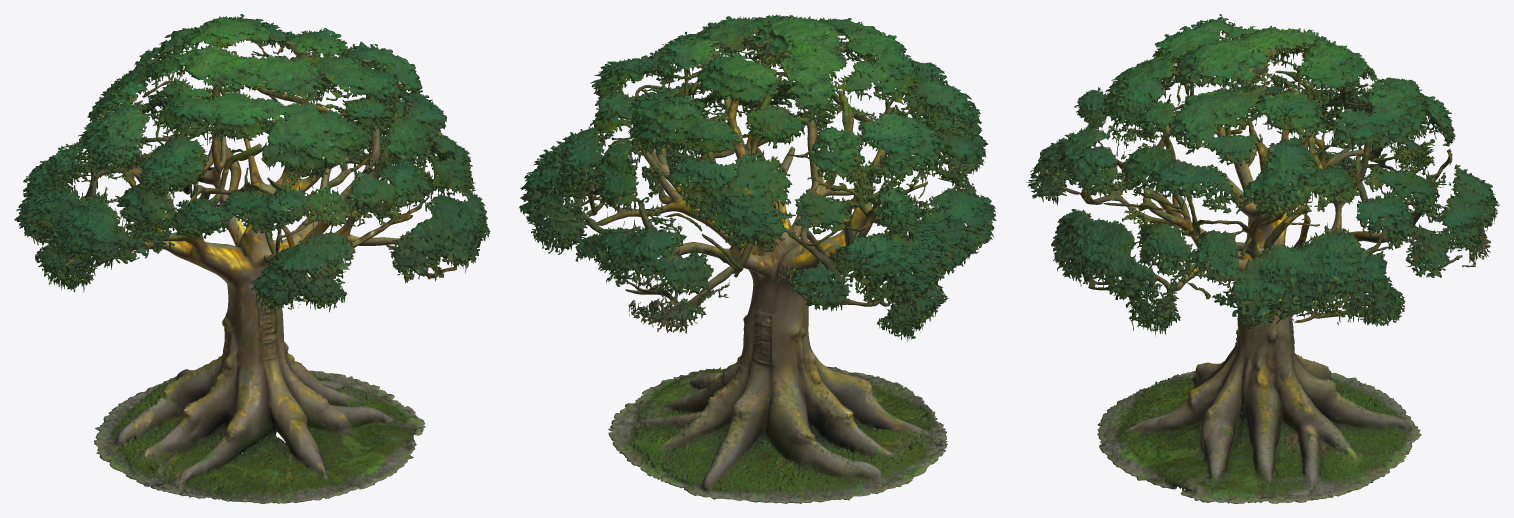
File: Meshy_AI_Luminous_Enchantment_1115232730_texture.glb
3 views of the same model, side by side, from view 1: azimuth 30°, elevation 25°; view 2: azimuth 150°, elevation 25°; view 3: azimuth 270°, elevation 25° (orthographic). The views are drawn at different scales.
Size of the model in its own units: 1.98 by 1.8 by 1.99.
Materials: 1 (1 with a texture image).
